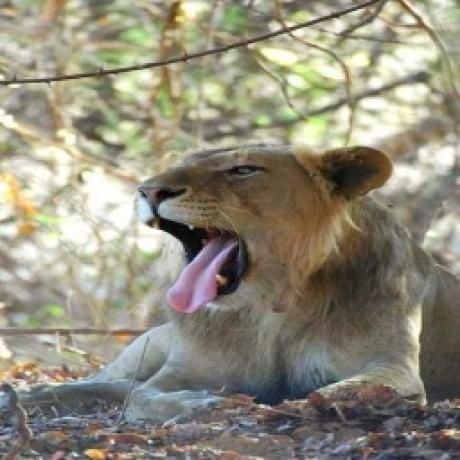Lion: (102, 135, 460, 411)
